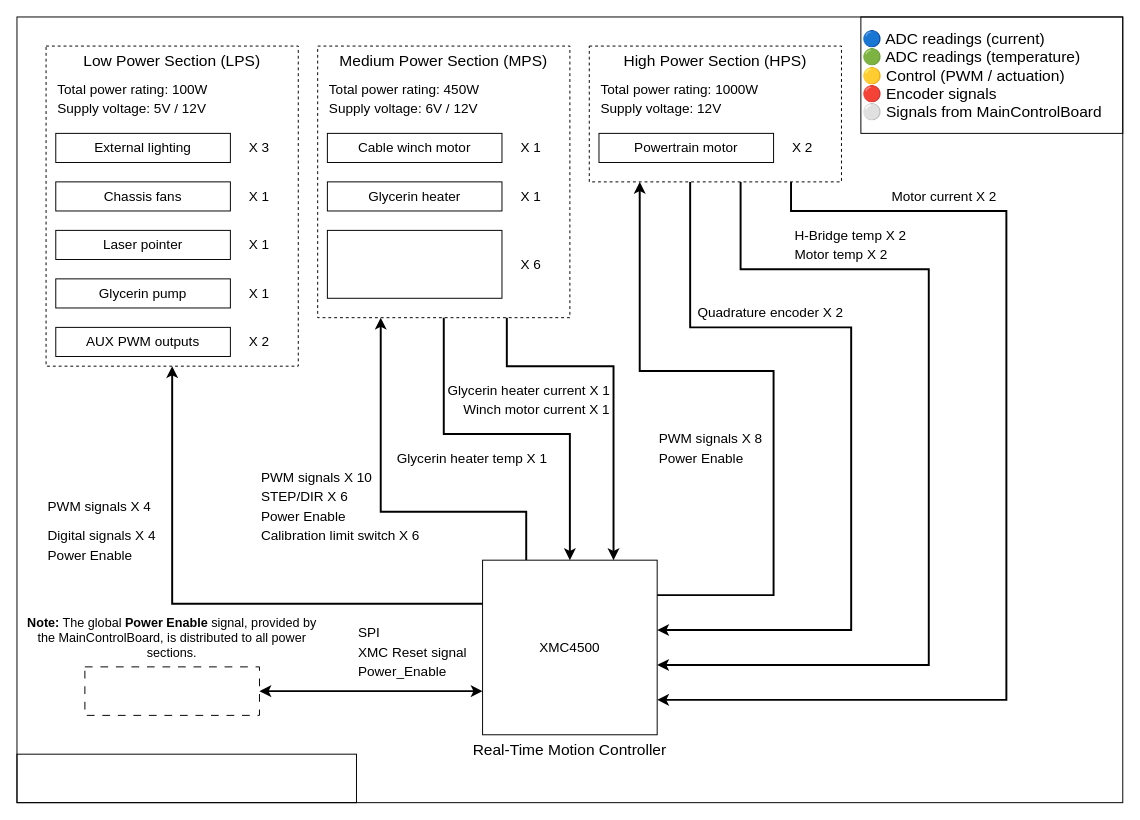
Image size: 1140x820. Some labels were removed from this diagram. The centre of each missing label's shape, as x and y in pixels:
MainControlBoard: (171,690)
Maximum Combined Output Power: 1600W: (186,778)
Stepper motors or RC servos: (414,263)
